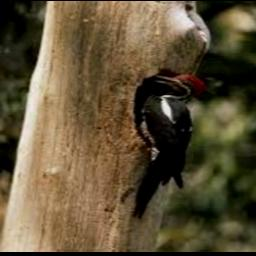Woodpecker: (132, 74, 205, 219)
